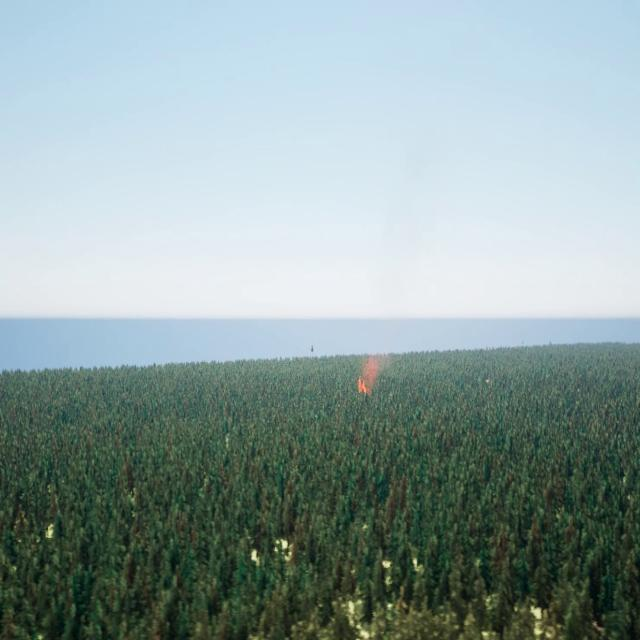fire: (357, 376, 369, 396)
smoke: (362, 352, 380, 379)
